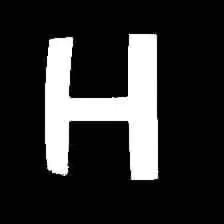LTR_H: (30, 20, 175, 191)
